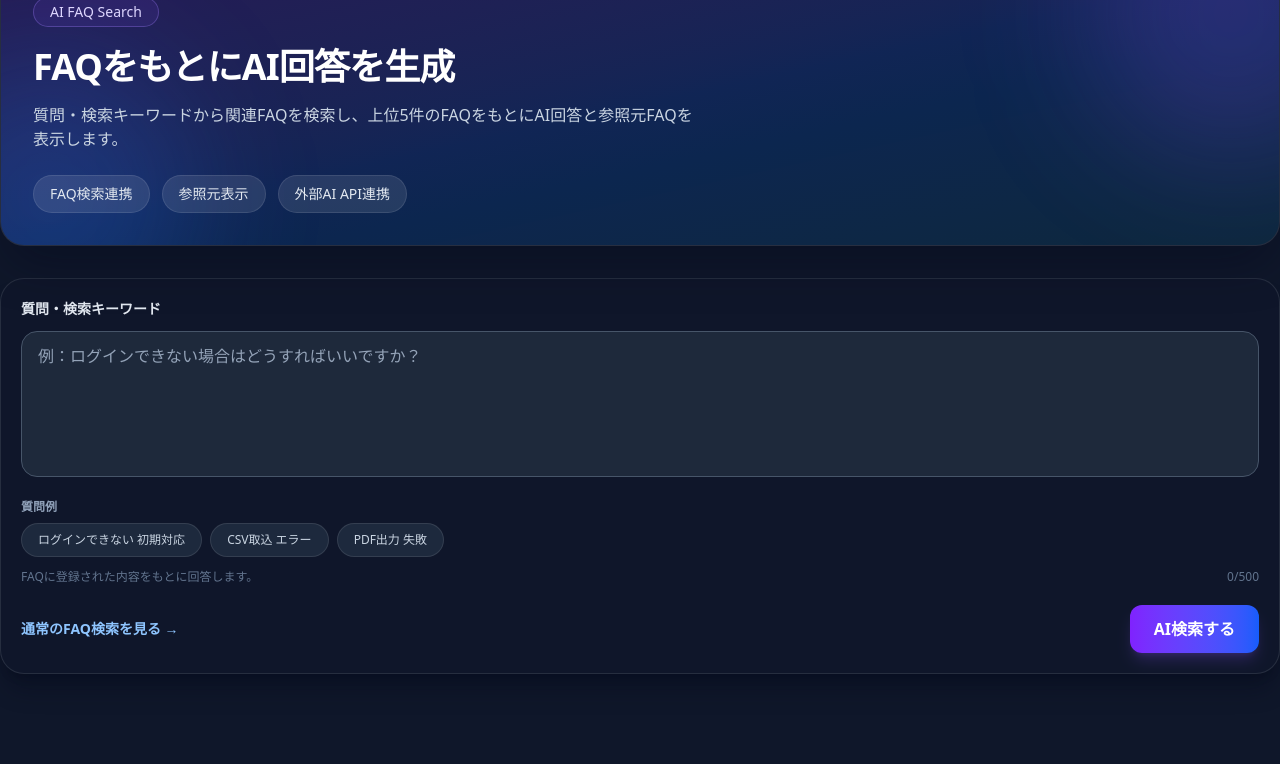
Scenario: AiSearchPage › 検索結果なしメッセージを表示する
Type "存在しない質問" into the text box with placeholder "例：ログインできない場合はどうすればいいですか？" at (640, 404), box [21,331,1259,477]
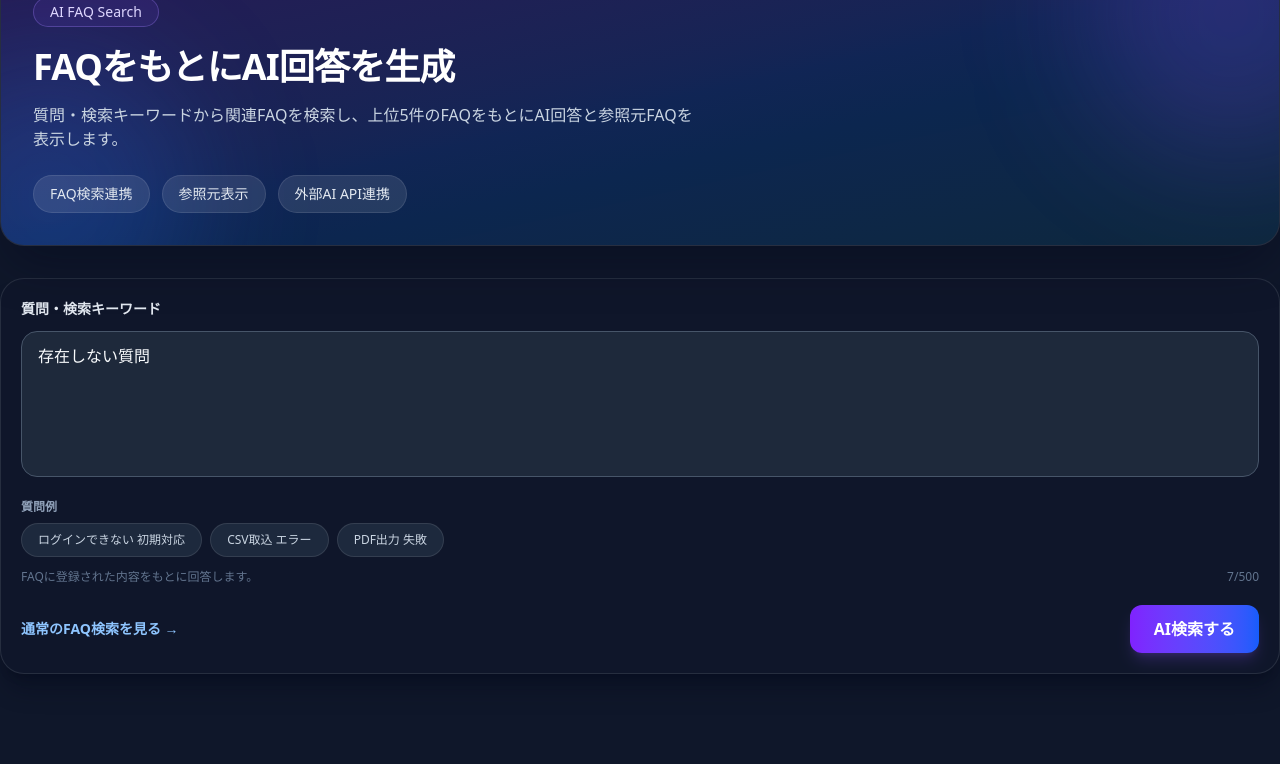
Click the button "AI検索する" at (1194, 629), box [1130,605,1259,653]
(page scrolled)
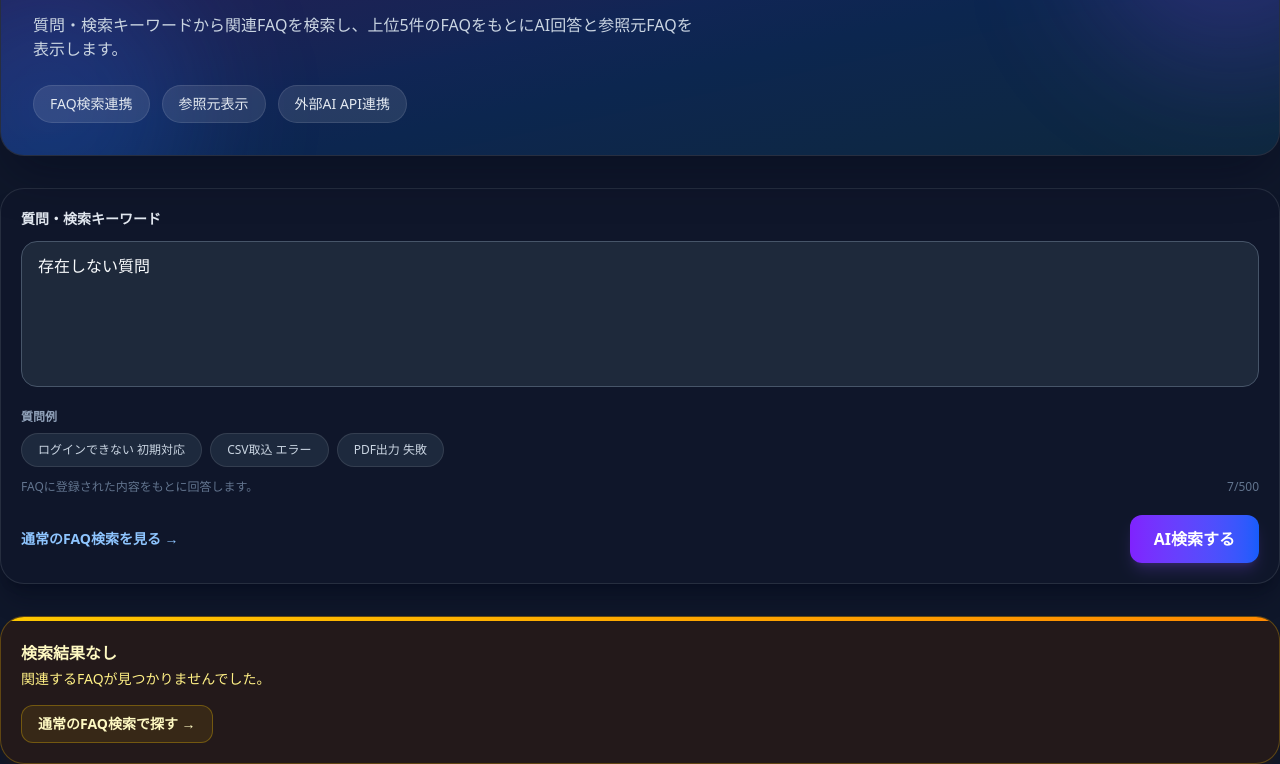
Check: the text "検索結果なし" is shown, box [21,642,117,664]
Check: the text "関連するFAQが見つかりませんでした。" is shown, box [21,669,270,688]
